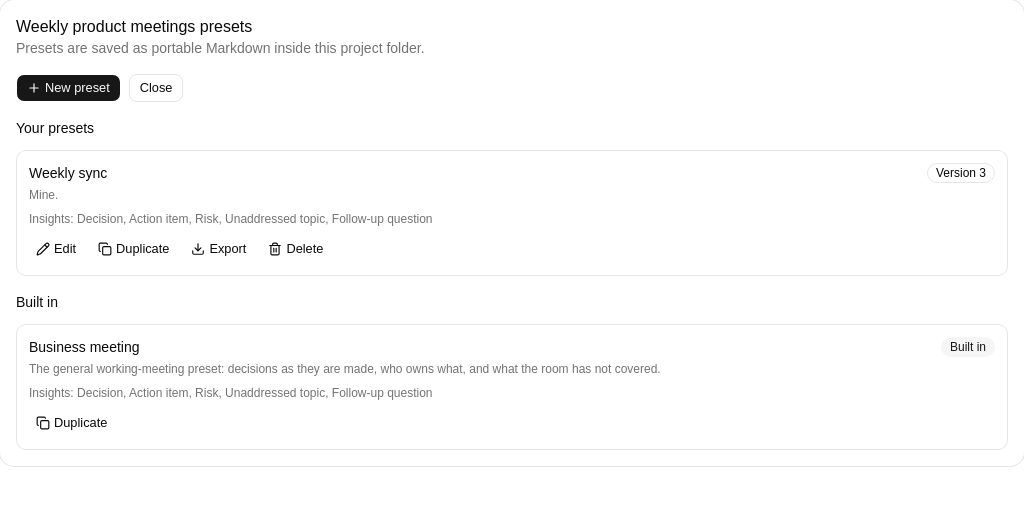
Test: ProjectPresets › reports where an export was written
What coordinates should you click on to do the following:
click the button with aria-label "Export Weekly sync"
I would click on:
 (221, 249)
Its box is [184, 235, 257, 263].
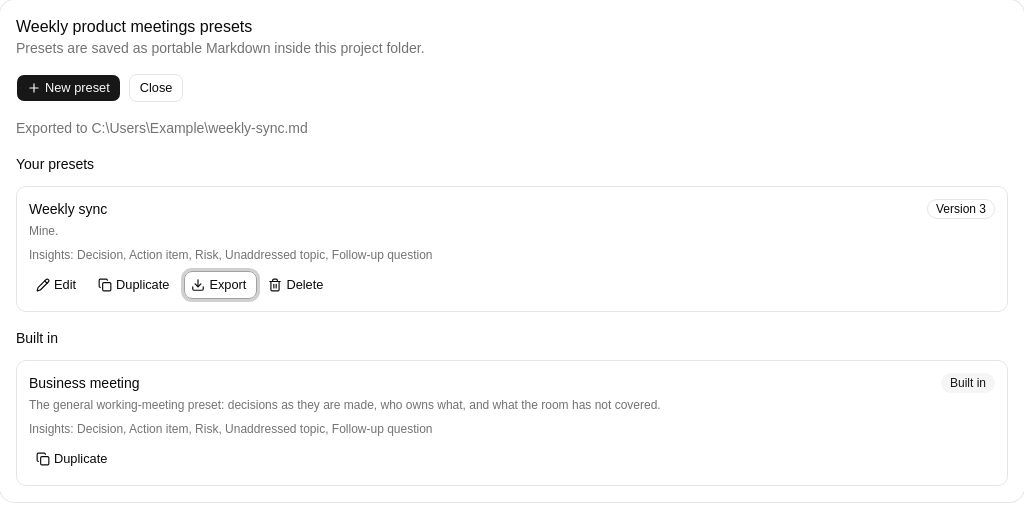
Result: the text "Exported to C:\\Users\\Example\\weekly-sync.md" is shown at [16, 120, 308, 136]
